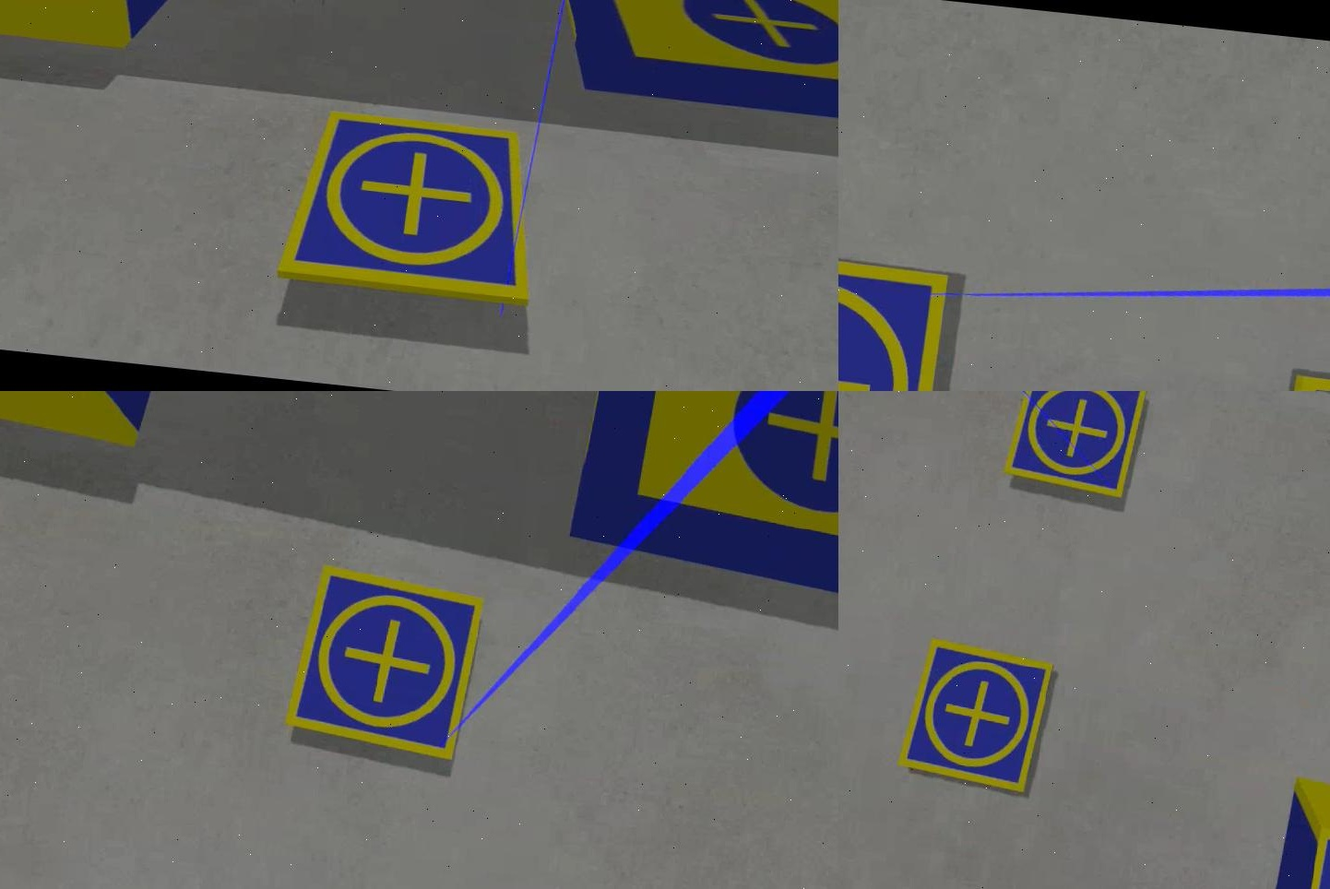large_base: (561, 391, 837, 637), (540, 1, 837, 144)
small_base: (270, 105, 543, 306), (277, 557, 490, 769), (892, 635, 1053, 800), (1001, 391, 1152, 508), (837, 240, 953, 391)
